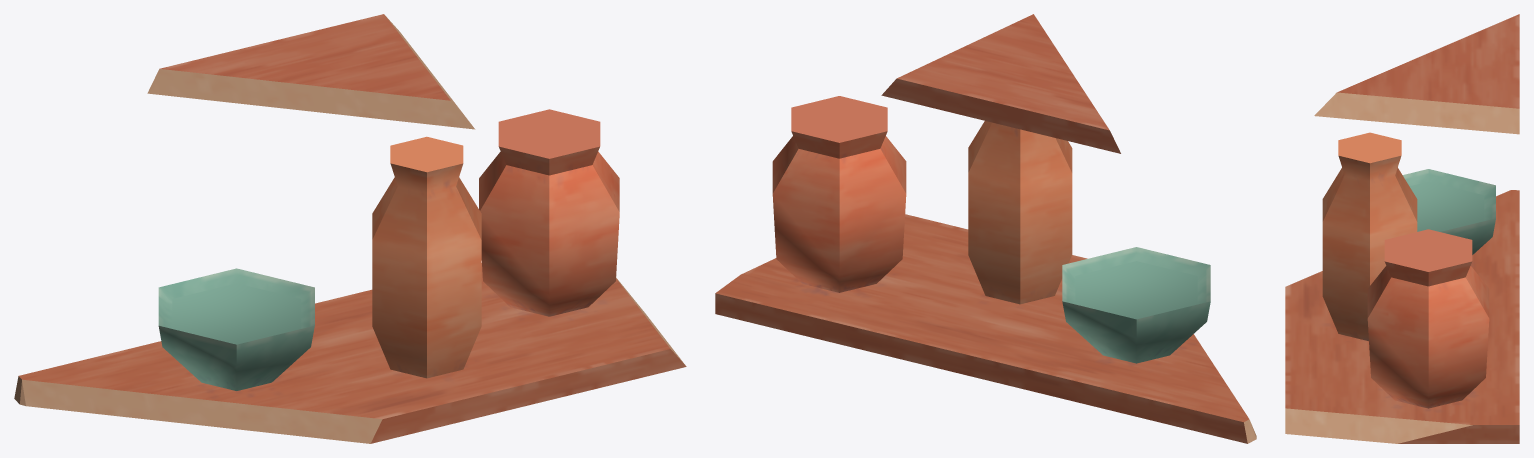
File: pot_rack_s04.fbx
The picture shows the model from 3 angles, left to right: view 1: azimuth 30°, elevation 25°; view 2: azimuth 150°, elevation 25°; view 3: azimuth 270°, elevation 25°; orthographic projection. The views are drawn at different scales.
Parts seen in each view (by area): view 1: pot_rack_s04; view 2: pot_rack_s04; view 3: pot_rack_s04.
Part boxes in pixels (x1,y1,x2,y2): pot_rack_s04: [14, 14, 686, 443]; pot_rack_s04: [715, 14, 1256, 443]; pot_rack_s04: [1285, 14, 1519, 443].
Size of the model in its own units: 4.32 by 2.16 by 1.8.
